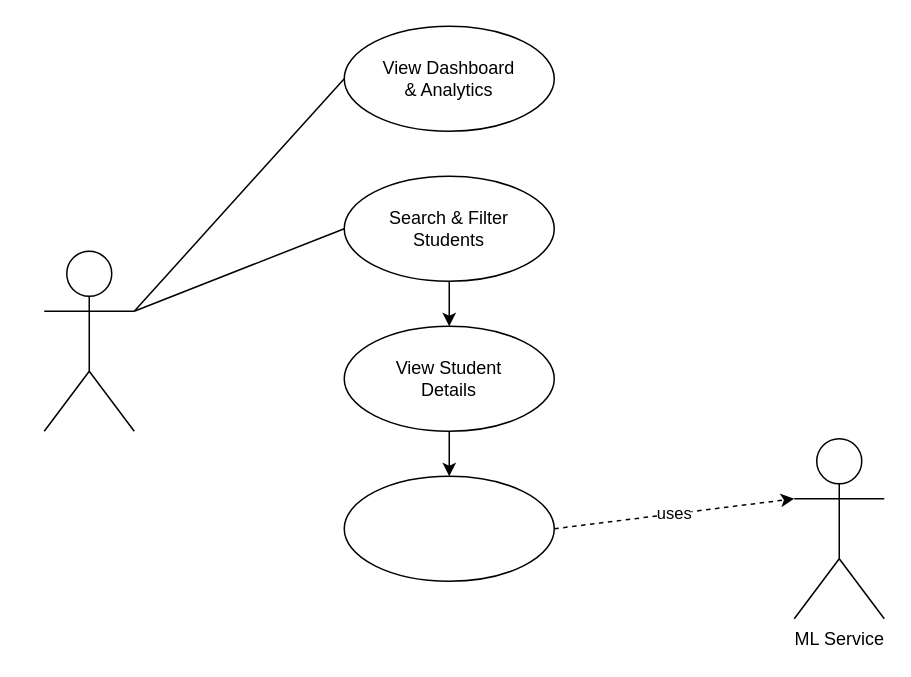
This 911x677 diagram has some shape labels left out. The shapes that lost their labels are listed below. From the top down, each one's centre as x and y in pixels, then its label:
At pixel 88 340: "Admin/Educator".
At pixel 448 528: "Get Learning Style Prediction".
